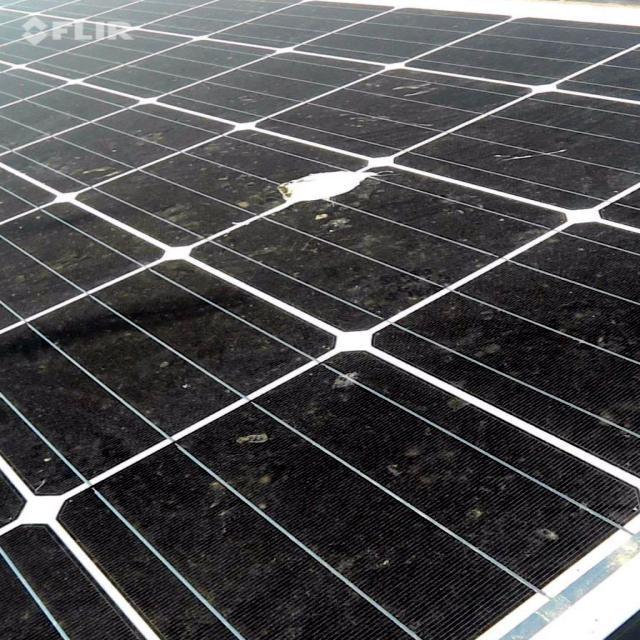soiled: (11, 60, 640, 616)
